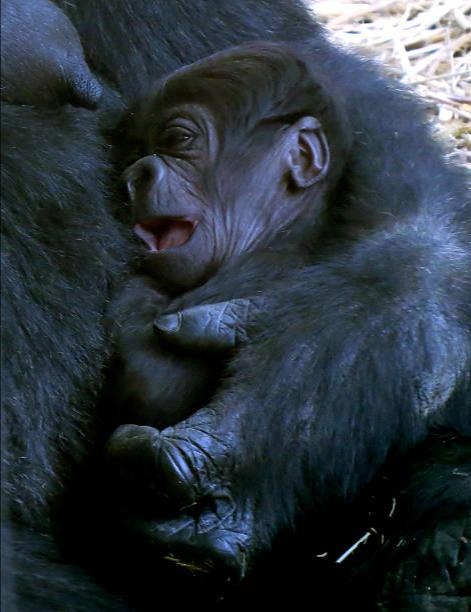gorille_Autres: (77, 17, 421, 450)
